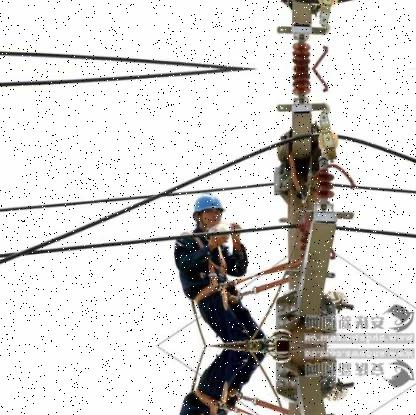helmet: (189, 191, 228, 229)
